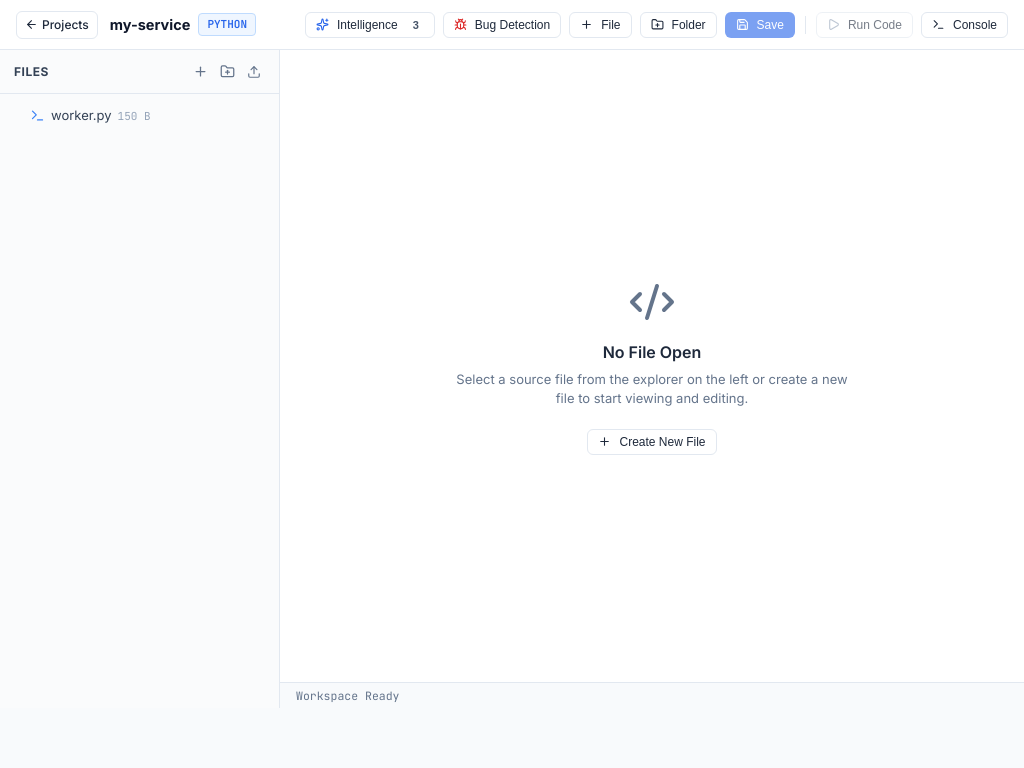
it: FIXMATE AI Phase 3: Code Parsing & Structural Intelligence Tests › 4. WorkspacePage integrates Intelligence toggle button and loads latest analysis
The width and height of the screenshot is (1024, 768).
Expected: the text "my-service" is shown, x1=110 y1=14 x2=190 y2=35
// Toggle intelligence panel
Step 1. Click the button with test id "toggle-intelligence-button" → (370, 24), box x1=305 y1=12 x2=435 y2=38
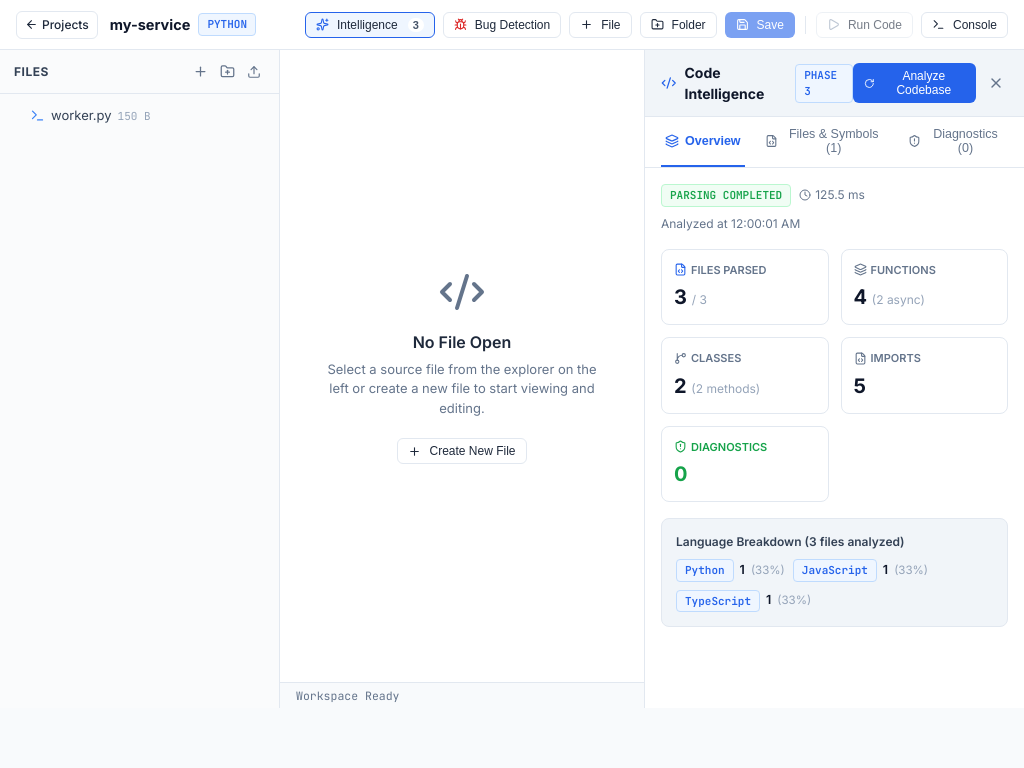
Now the text "Code Intelligence" is shown, box x1=684 y1=64 x2=764 y2=102
Now the text "PARSING COMPLETED" is shown, box x1=661 y1=184 x2=791 y2=206
